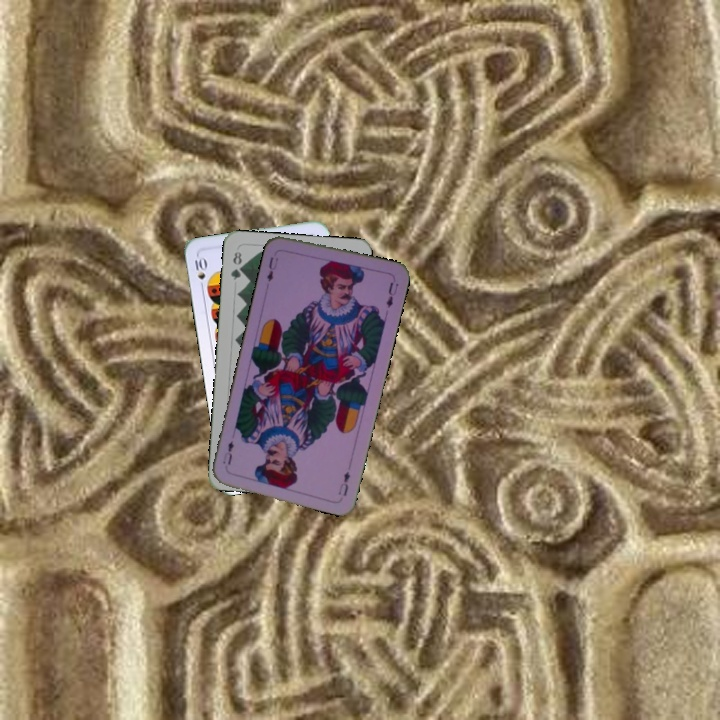EU: (334, 467, 353, 499), (263, 253, 281, 284)
G8: (227, 247, 245, 283)
S10: (190, 252, 209, 293)
